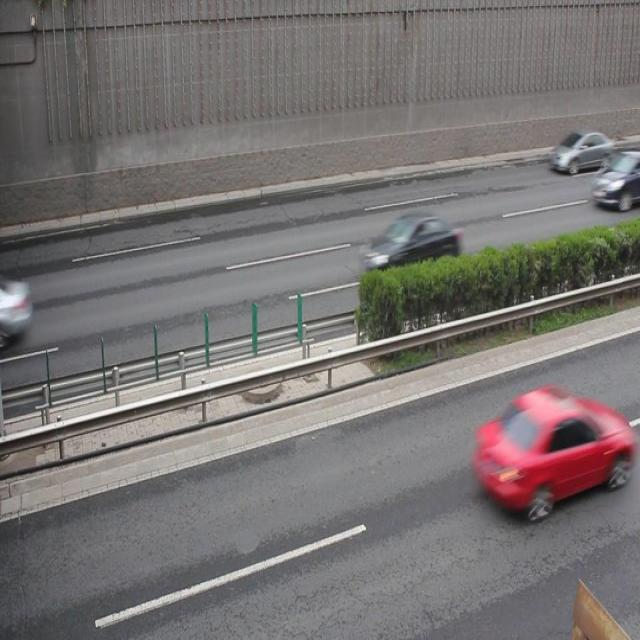car: (471, 388, 614, 520), (360, 212, 460, 281), (548, 128, 612, 174), (590, 160, 640, 209)
